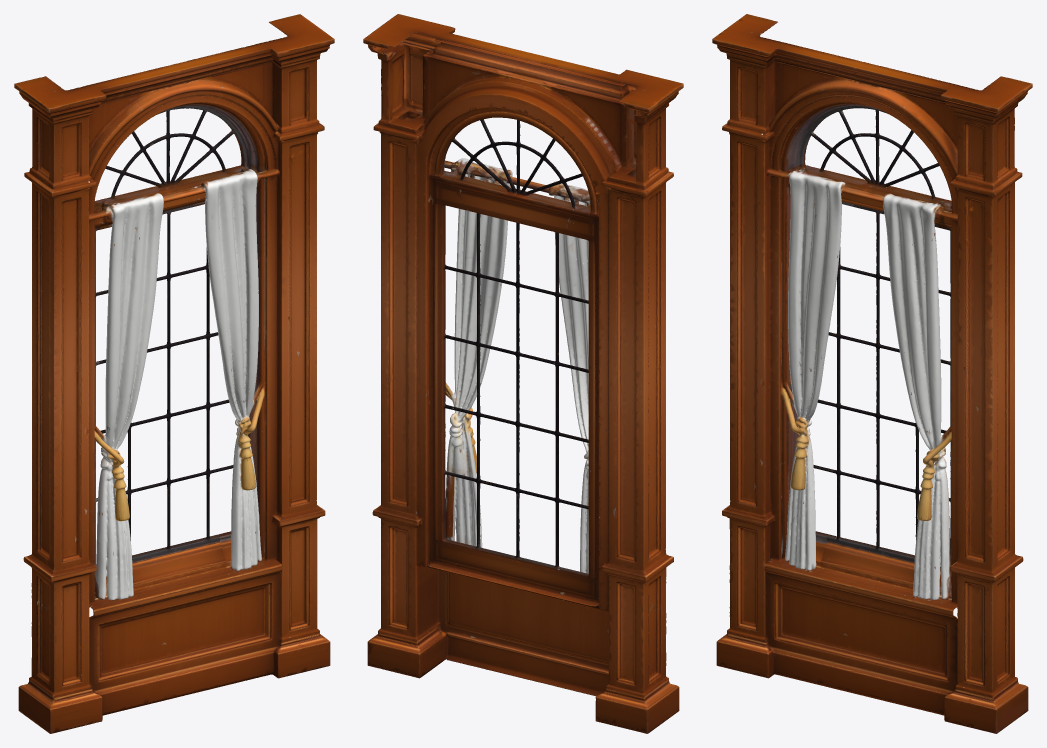
The model's file is Window.glb.
The picture shows the model from 3 angles, left to right: view 1: azimuth 30°, elevation 25°; view 2: azimuth 150°, elevation 25°; view 3: azimuth 330°, elevation 25°; orthographic projection.
Bounding box in the file's own units: 0.9073 × 1.9 × 0.1906.
1 material, 1 textured.
